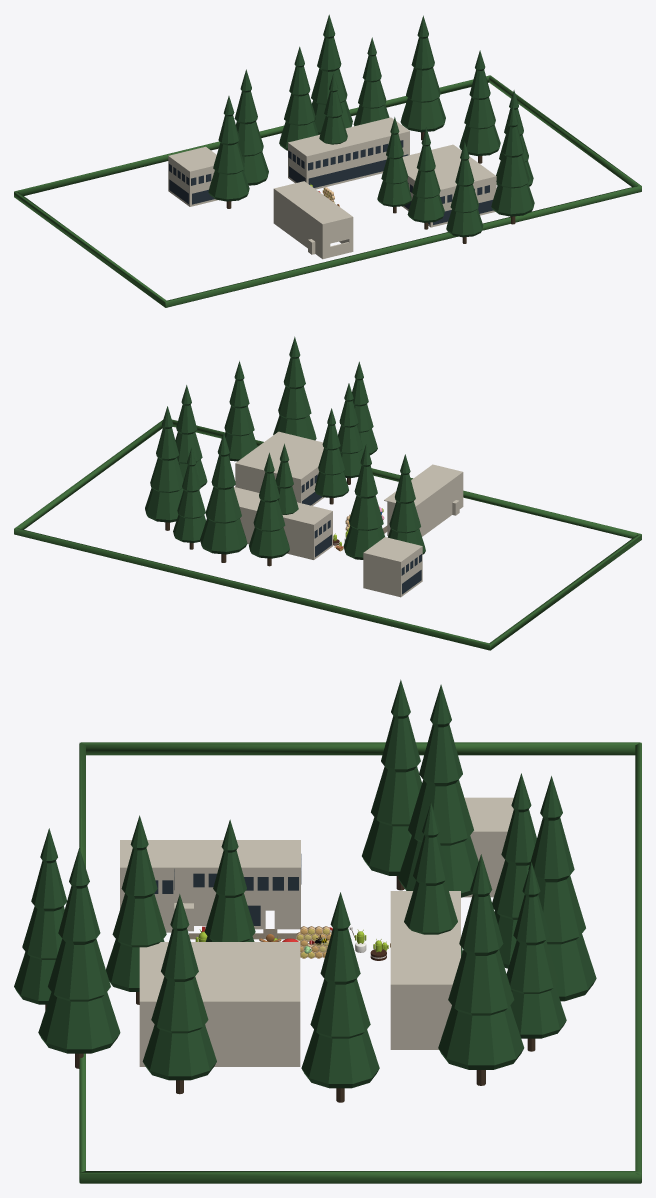
Rendered from set3.glb.
The picture shows the model from 3 angles, top to bottom: view 1: azimuth 30°, elevation 25°; view 2: azimuth 150°, elevation 25°; view 3: azimuth 270°, elevation 25°; orthographic projection. The views are drawn at different scales.
Parts seen in each view (by area): view 1: Static; view 2: Static; view 3: Static.
Part boxes in pixels (x1,y1,x2,y2): Static: (14, 14, 641, 307); Static: (14, 336, 641, 650); Static: (14, 679, 641, 1183).
Bounding box in the file's own units: 102 × 26.47 × 62.51.
38 materials, 1 textured.
